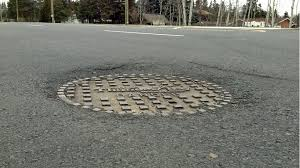Manhole-Closed: (54, 48, 255, 131)
